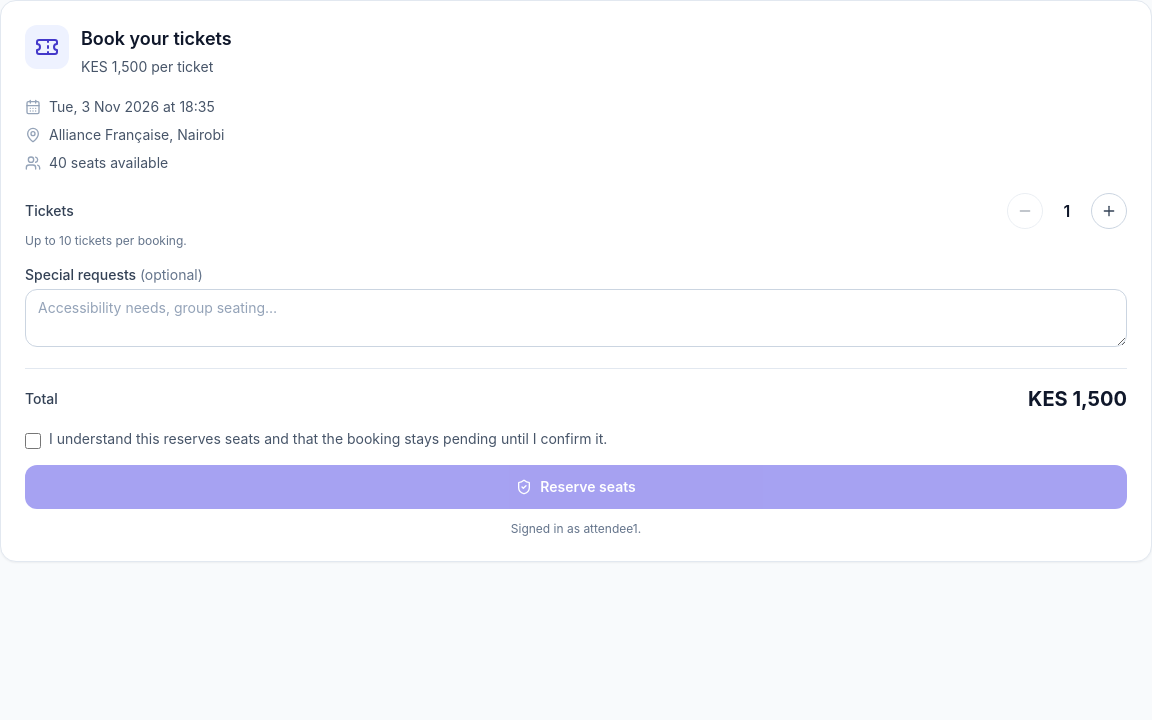
TicketSelector › submits the selected quantity to the real booking endpoint
Click the button named "Add one ticket".
click(1109, 211)  # box [1091,193,1127,229]
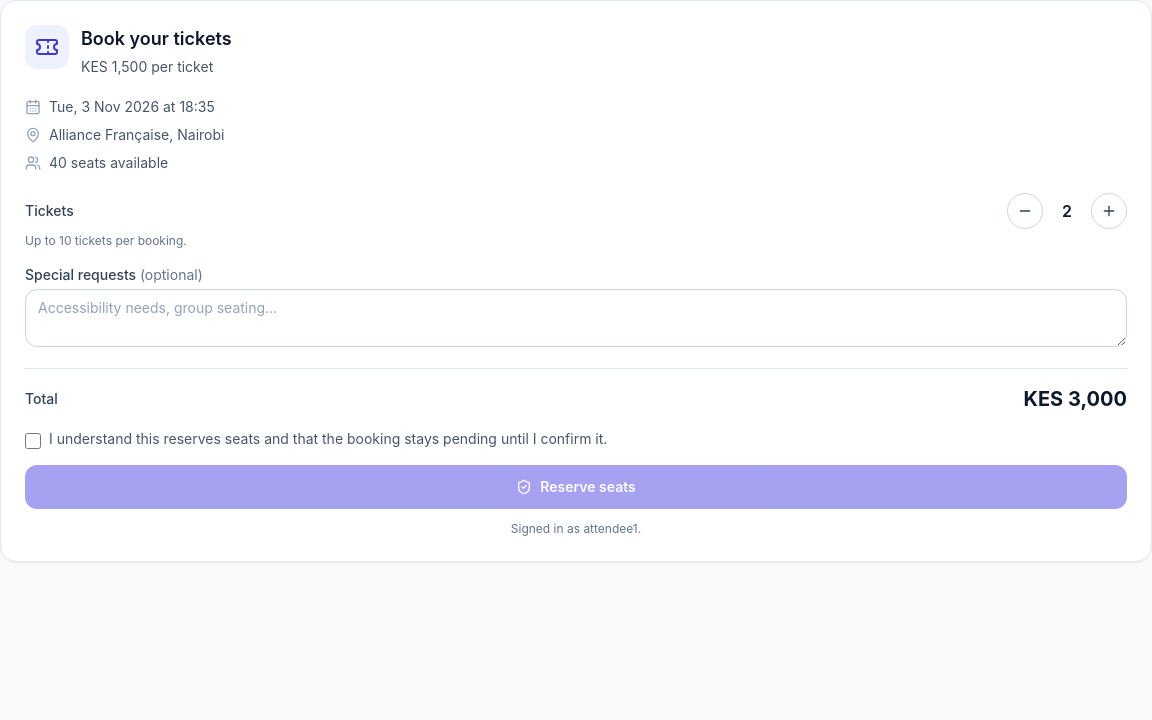
Click the checkbox.
click(33, 441)  # box [25,433,41,449]
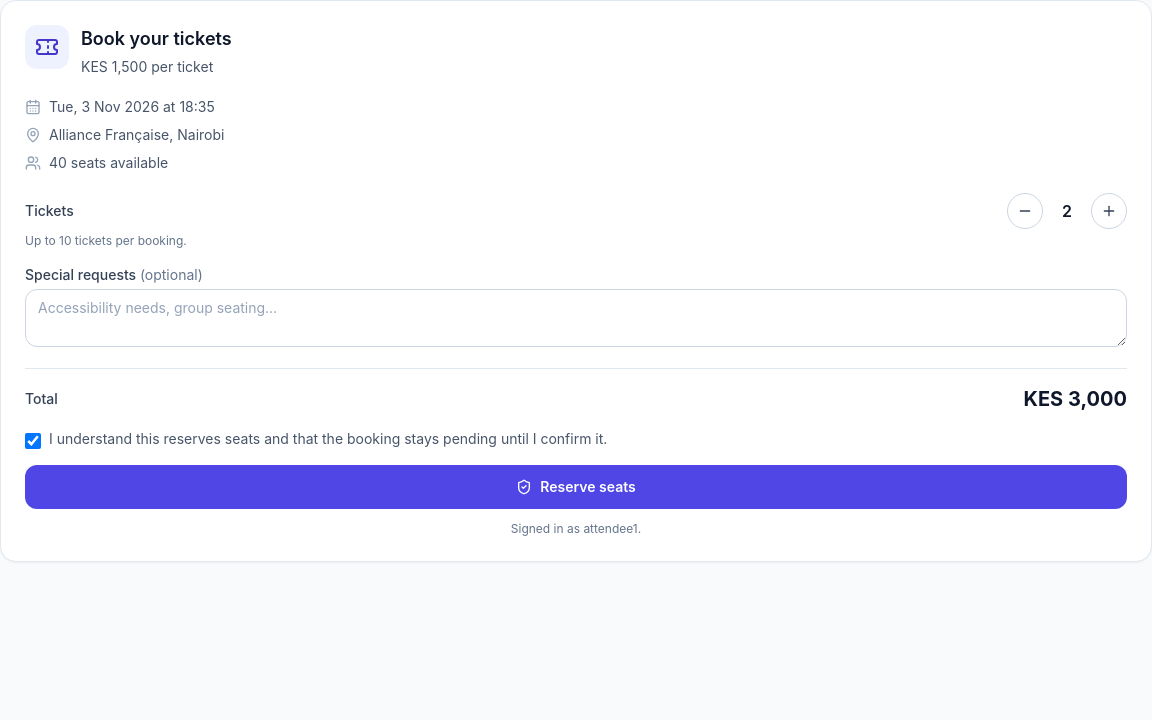
Click the button "Reserve seats".
click(576, 487)  # box [25,465,1127,509]
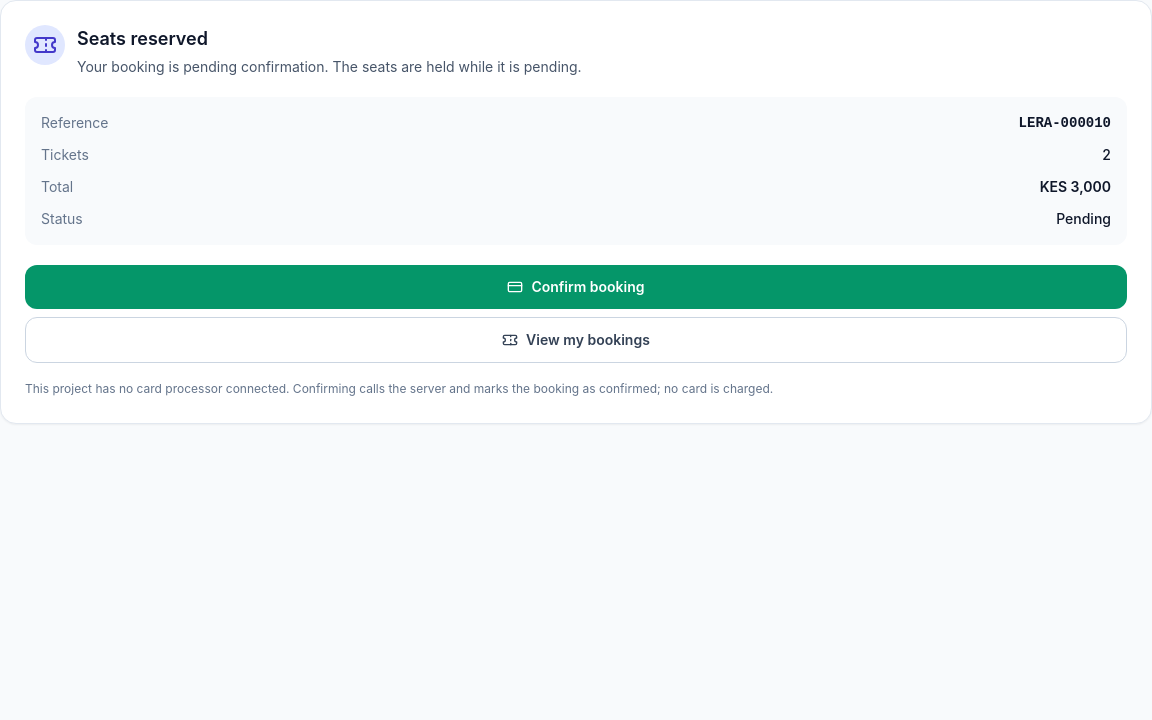
Result: the text "KES 3,000" is shown at [1040,177,1111,197]
Result: the heading "Seats reserved" is shown at [77,28,208,49]
Result: the text "LERA-000010" is shown at [1019,113,1111,133]
